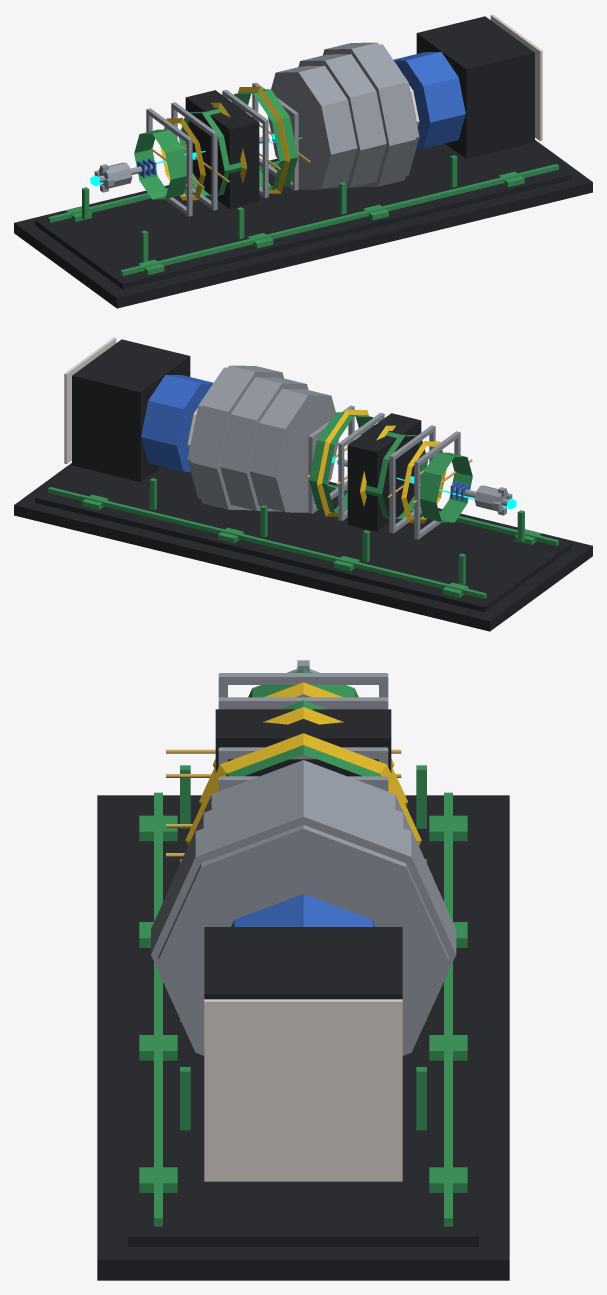
Rendered from detector_scene_mobile.glb.
3 views of the same model, one above another, from view 1: azimuth 30°, elevation 25°; view 2: azimuth 150°, elevation 25°; view 3: azimuth 270°, elevation 25° (orthographic). The views are drawn at different scales.
Parts seen in each view (by area): view 1: PROP_plinth, PROP_na62_rich, PROP_na62_muv_slabs, PROP_support_frame, PROP_na62_magnet, PROP_na62_decay_tank, PROP_na62_lkr, PROP_na62_lav_rings, PROP_na62_straw_chamber_0, PROP_na62_straw_chamber_1, PROP_na62_muv3, PROP_na62_straw_chamber_2 (+2 smaller); view 2: PROP_plinth, PROP_na62_rich, PROP_na62_muv_slabs, PROP_support_frame, PROP_na62_magnet, PROP_na62_decay_tank, PROP_na62_lkr, PROP_na62_lav_rings, PROP_na62_straw_chamber_0, PROP_na62_straw_chamber_1, PROP_na62_muv3, PROP_na62_straw_chamber_2 (+2 smaller); view 3: PROP_plinth, PROP_na62_rich, PROP_na62_muv3, PROP_support_frame, PROP_na62_muv_slabs, PROP_na62_magnet, PROP_na62_lav_rings, PROP_na62_lkr, PROP_na62_straw_chamber_0, PROP_na62_decay_tank, PROP_na62_straw_chamber_1, PROP_na62_straw_chamber_2.
Boxes of the visible parts, box(x1,y1,x2,y2) form: PROP_plinth: box(14, 140, 592, 308); PROP_na62_rich: box(268, 42, 419, 189); PROP_na62_muv_slabs: box(416, 16, 534, 159); PROP_support_frame: box(48, 155, 558, 275); PROP_na62_magnet: box(185, 90, 259, 208); PROP_na62_decay_tank: box(134, 89, 297, 199); PROP_na62_lkr: box(393, 52, 465, 148); PROP_na62_lav_rings: box(160, 86, 289, 200); PROP_na62_straw_chamber_0: box(146, 108, 204, 216); PROP_na62_straw_chamber_1: box(171, 102, 229, 210); PROP_na62_muv3: box(490, 14, 542, 141); PROP_na62_straw_chamber_2: box(222, 89, 280, 197); PROP_plinth: box(14, 463, 592, 631); PROP_na62_rich: box(187, 365, 338, 512); PROP_na62_muv_slabs: box(72, 339, 190, 482); PROP_support_frame: box(48, 478, 558, 598); PROP_na62_magnet: box(347, 413, 421, 531); PROP_na62_decay_tank: box(309, 412, 472, 522); PROP_na62_lkr: box(141, 375, 213, 471); PROP_na62_lav_rings: box(317, 409, 446, 523); PROP_na62_straw_chamber_0: box(412, 431, 472, 539); PROP_na62_straw_chamber_1: box(387, 425, 435, 533); PROP_na62_muv3: box(64, 337, 116, 464); PROP_na62_straw_chamber_2: box(336, 412, 384, 520); PROP_plinth: box(97, 795, 509, 1280); PROP_na62_rich: box(151, 760, 456, 1055); PROP_na62_muv3: box(204, 999, 402, 1181); PROP_support_frame: box(139, 765, 467, 1226); PROP_na62_muv_slabs: box(204, 927, 402, 999); PROP_na62_magnet: box(215, 709, 391, 776); PROP_na62_lav_rings: box(185, 682, 421, 845); PROP_na62_lkr: box(231, 894, 375, 926); PROP_na62_straw_chamber_0: box(166, 673, 401, 753); PROP_na62_decay_tank: box(226, 669, 380, 776); PROP_na62_straw_chamber_1: box(166, 697, 401, 777); PROP_na62_straw_chamber_2: box(166, 747, 388, 827).
Size of the model in its own units: 14.4 by 4.4 by 5.4.
